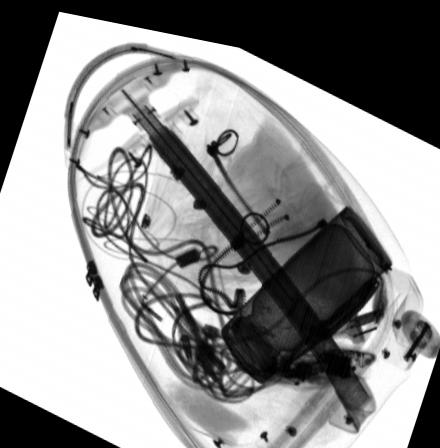Knife: (172, 285, 214, 374)
